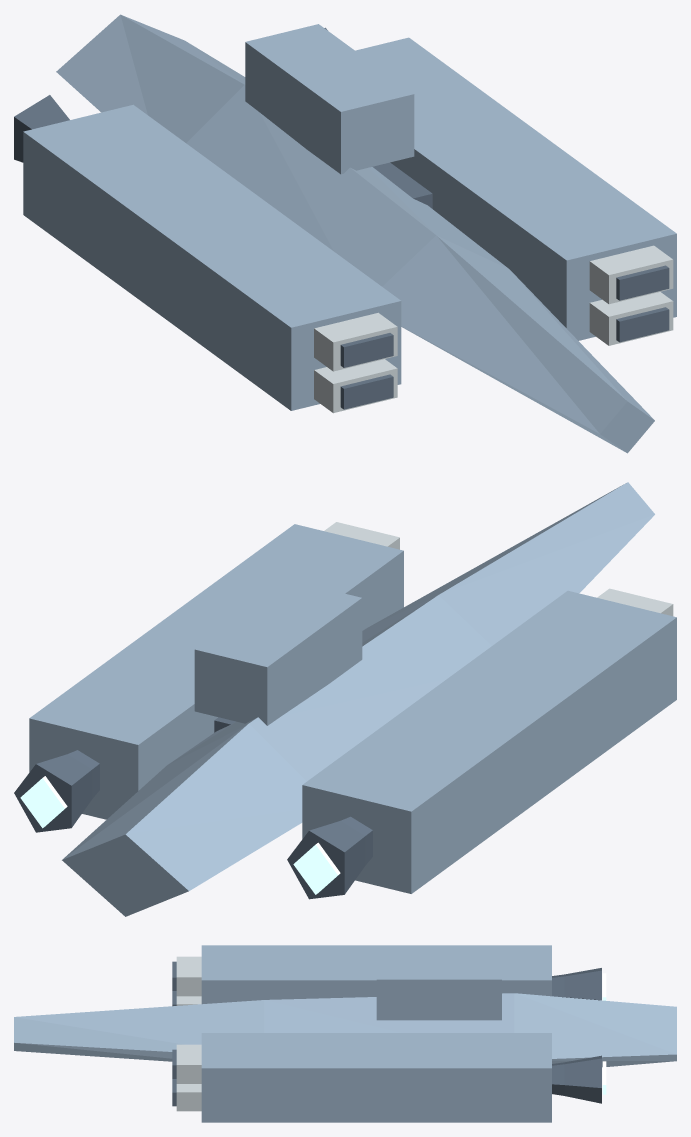
3 renders of one model, top to bottom at view 1: azimuth 30°, elevation 25°; view 2: azimuth 150°, elevation 25°; view 3: azimuth 270°, elevation 25°, orthographic. The views are drawn at different scales.
Bounding box in the file's own units: 4.4 × 1.93 × 10.02.
